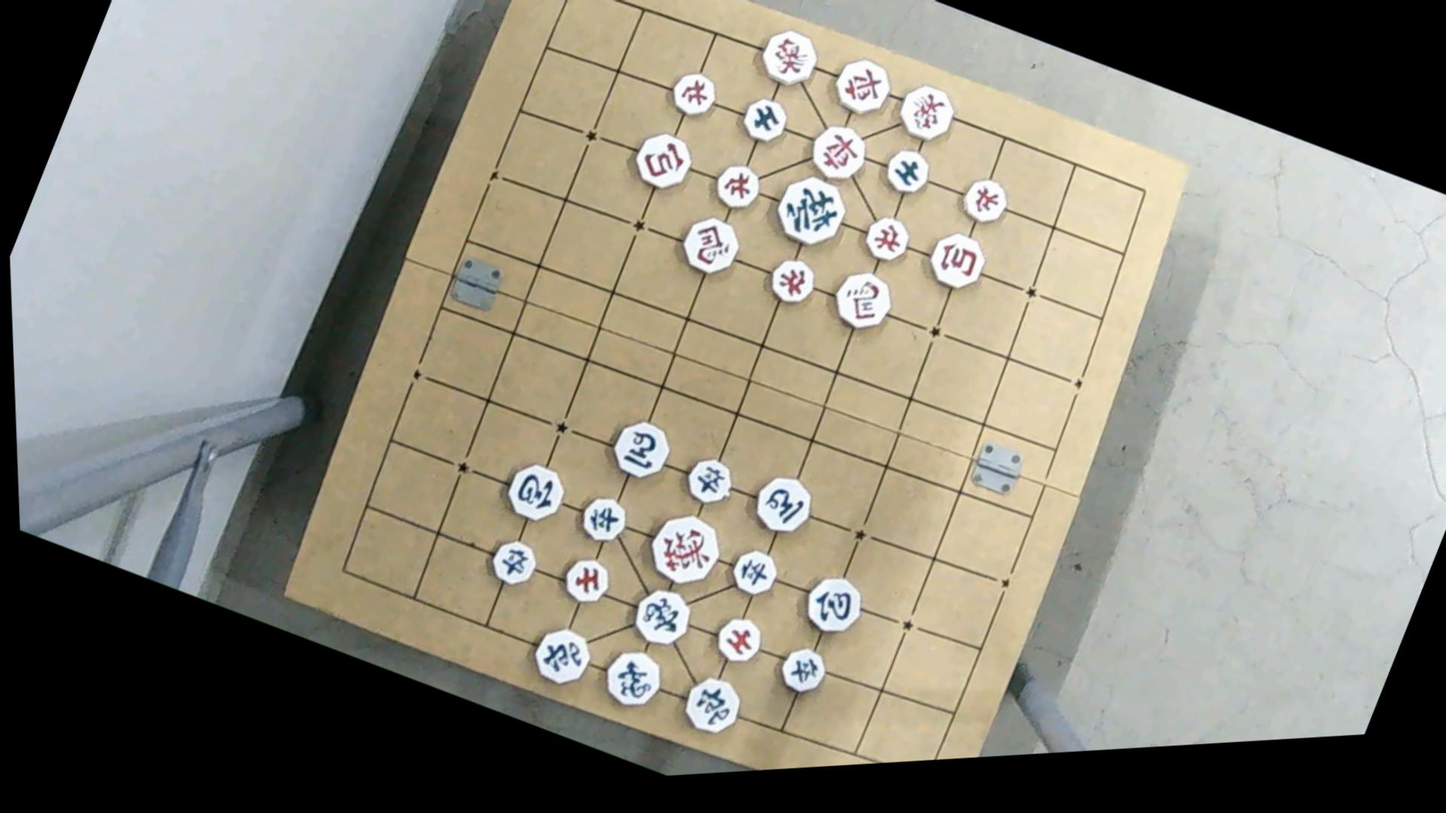cha_green: (523, 617, 598, 694), (675, 665, 749, 740)
cha_red: (801, 117, 874, 189), (825, 51, 898, 121)
jol_green: (570, 486, 635, 553), (676, 449, 740, 513), (721, 543, 782, 604), (770, 642, 829, 700), (482, 534, 540, 591)
jol_red: (758, 245, 825, 312), (855, 205, 917, 271), (661, 63, 726, 125), (952, 168, 1013, 230), (706, 154, 767, 215)
ma_green: (602, 413, 676, 486), (746, 467, 819, 539)
ma_red: (825, 263, 900, 335), (673, 209, 746, 280)
po_green: (496, 454, 570, 531), (792, 566, 866, 638)
po_red: (917, 224, 990, 297), (626, 124, 697, 193)
sa_green: (874, 142, 935, 200), (734, 92, 792, 148)
sa_red: (706, 604, 768, 668), (554, 548, 615, 611)
sang_green: (623, 577, 696, 653), (595, 641, 668, 716)
sang_red: (749, 21, 822, 91), (891, 78, 962, 147)
wang_green: (767, 162, 856, 255)
wang_red: (636, 504, 727, 592)
